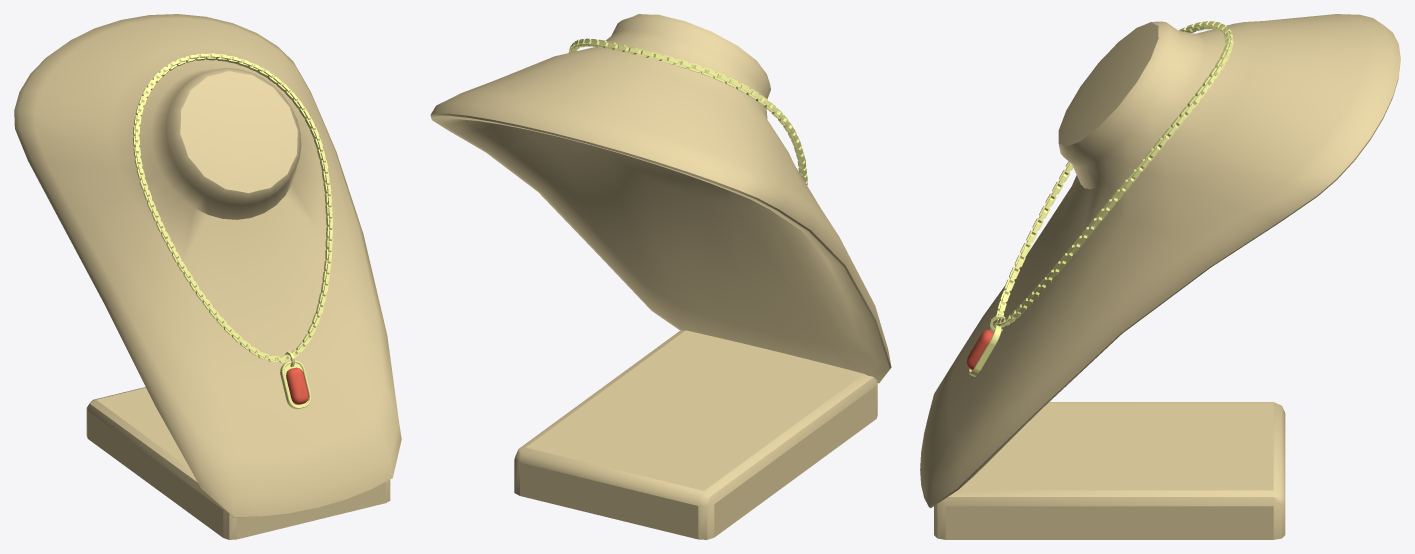
Rendered from Necklace_6.fbx.
The picture shows the model from 3 angles, left to right: view 1: azimuth 30°, elevation 25°; view 2: azimuth 150°, elevation 25°; view 3: azimuth 270°, elevation 25°; orthographic projection. The views are drawn at different scales.
Visible parts, largest first — view 1: SM_Stand_Necklace_8, SM_Necklace_8, SM_Cullon_8; view 2: SM_Stand_Necklace_8, SM_Necklace_8; view 3: SM_Stand_Necklace_8, SM_Necklace_8, SM_Cullon_8.
Part boxes in pixels (x1=…): SM_Stand_Necklace_8: x1=14, y1=14, x2=401, y2=539; SM_Necklace_8: x1=133, y1=53, x2=333, y2=363; SM_Cullon_8: x1=280, y1=351, x2=311, y2=409; SM_Stand_Necklace_8: x1=430, y1=14, x2=891, y2=539; SM_Necklace_8: x1=568, y1=38, x2=807, y2=185; SM_Stand_Necklace_8: x1=920, y1=14, x2=1400, y2=539; SM_Necklace_8: x1=995, y1=21, x2=1233, y2=327; SM_Cullon_8: x1=966, y1=315, x2=1005, y2=376.
Size of the model in its own units: 22.51 by 29.29 by 27.78.
